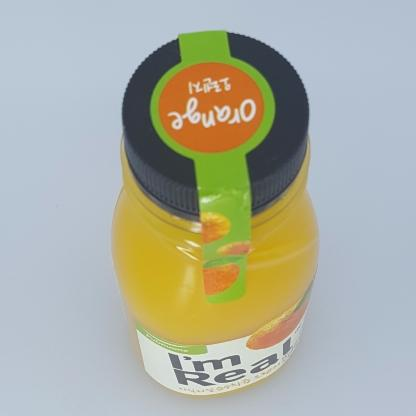-----------------190ML: (111, 30, 319, 398)
